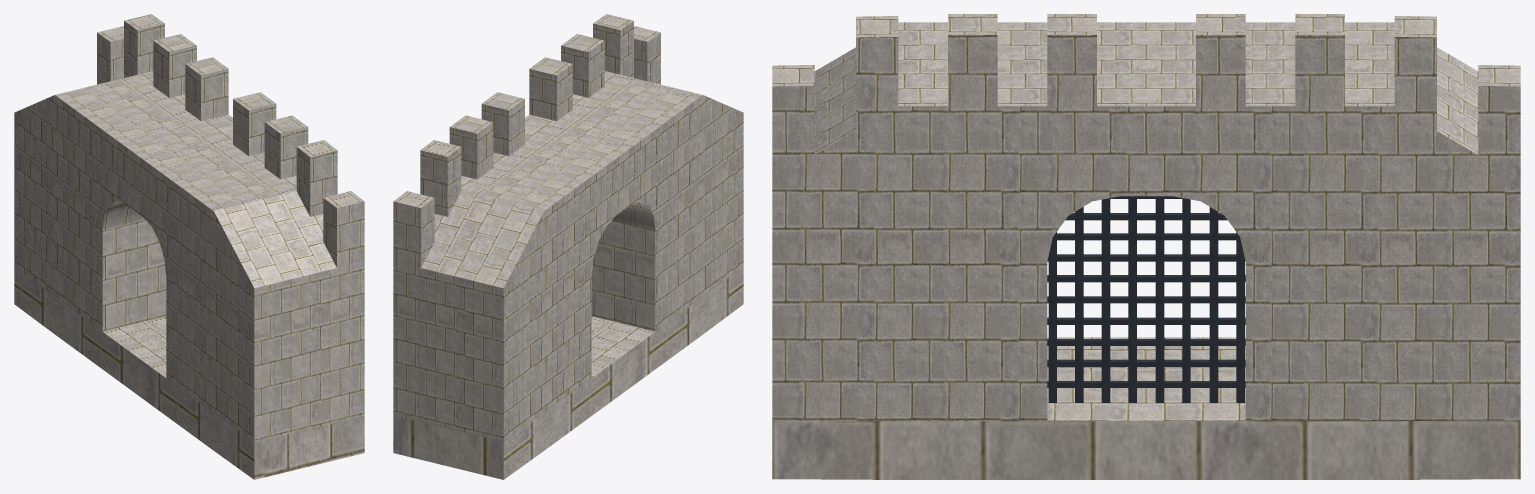
File: Wall_Stone_Large_Gate.fbx
3 views of the same model, side by side, from view 1: azimuth 30°, elevation 25°; view 2: azimuth 150°, elevation 25°; view 3: azimuth 270°, elevation 25° (orthographic). The views are drawn at different scales.
Parts seen in each view (by area): view 1: pCube1; view 2: pCube1; view 3: pCube1, pCube5, pCube2, pCube7, pCube3, pCube4, pCube8, pCube6, pCube9, pCube11, pCube12, pCube16 (+6 smaller).
Boxes of the visible parts, x1,y1,x2,y2 form: pCube1: (14, 14, 364, 479); pCube1: (393, 14, 743, 479); pCube1: (772, 14, 1520, 479); pCube5: (1155, 196, 1164, 402); pCube2: (1101, 198, 1110, 402); pCube7: (1209, 207, 1218, 402); pCube3: (1128, 196, 1136, 402); pCube4: (1182, 198, 1190, 402); pCube8: (1075, 207, 1083, 402); pCube6: (1236, 232, 1244, 402); pCube9: (1048, 232, 1056, 402); pCube11: (1047, 359, 1245, 366); pCube12: (1047, 317, 1245, 324); pCube16: (1047, 275, 1245, 282).
Bounding box in the file's own units: 4 × 9.89 × 15.08.
2 materials, 2 textured.
